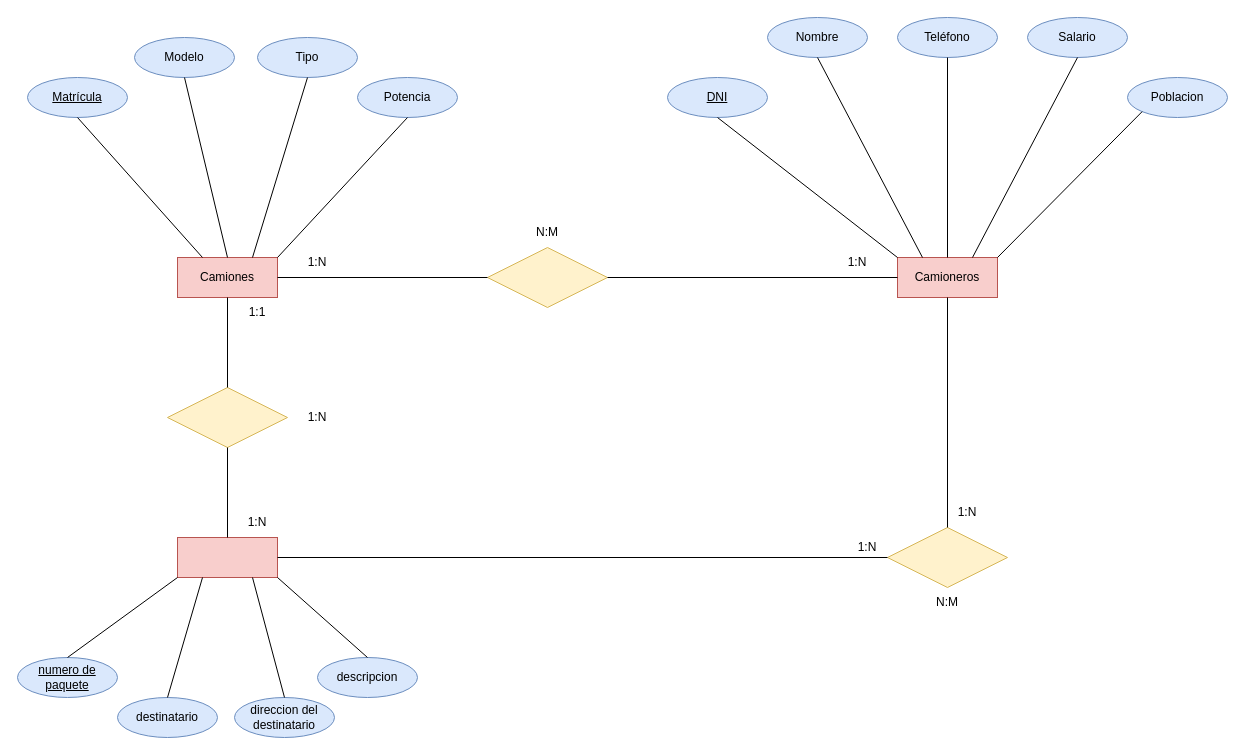
The diagram is 1245 pixels wide and 755 high, and some of its shapes have lost their labels. The shapes that lost their labels are listed below. From the top down, each one's centre as x and y in pixels, then its label:
At (x=547, y=277): "conducen".
At (x=227, y=417): "transportan".
At (x=227, y=557): "Paquetes".
At (x=947, y=557): "distribuye".
